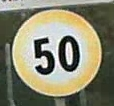limite 50: (8, 9, 105, 98)
